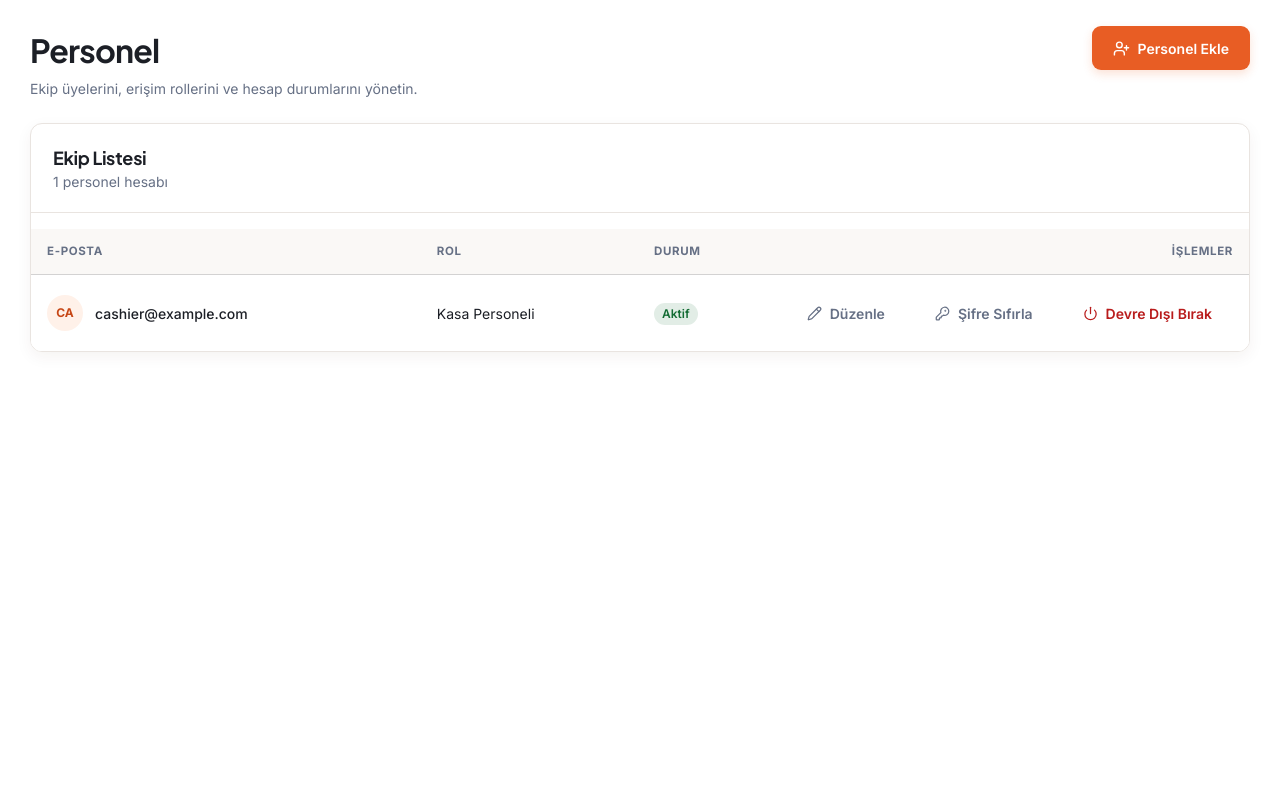
Scenario: StaffPage - Düzenle › e-posta zaten kullanımda hatasında (409) diyalog açık kalır ve hata mesajı gösterilir
Expected: the text "cashier@example.com" is shown, 95,303 -> 248,324
Click the button "Düzenle" at (846, 313), box 786,291 -> 906,335
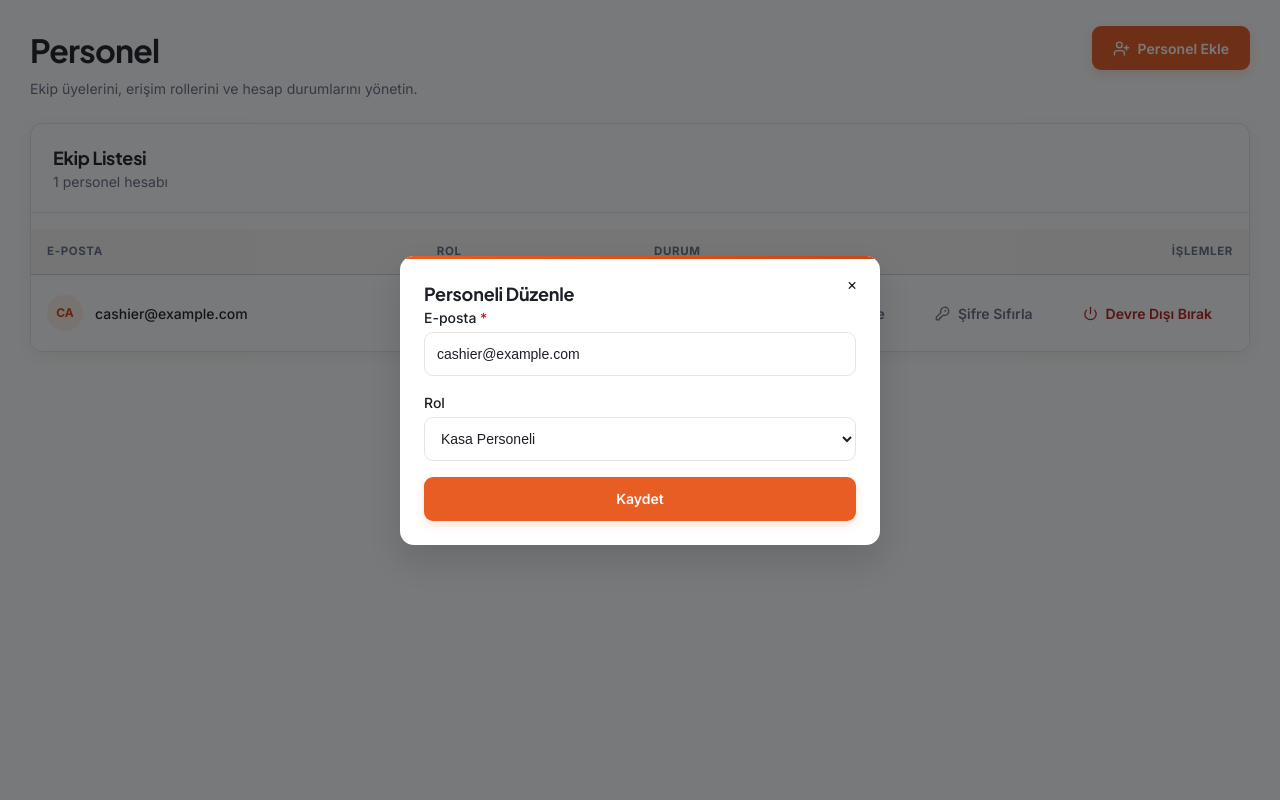
Expected: the heading "Personeli Düzenle" is shown, 424,282 -> 574,304
Replace the text in the field labelled "E-posta *" with "taken@example.com" at (640, 354), box 424,332 -> 856,376
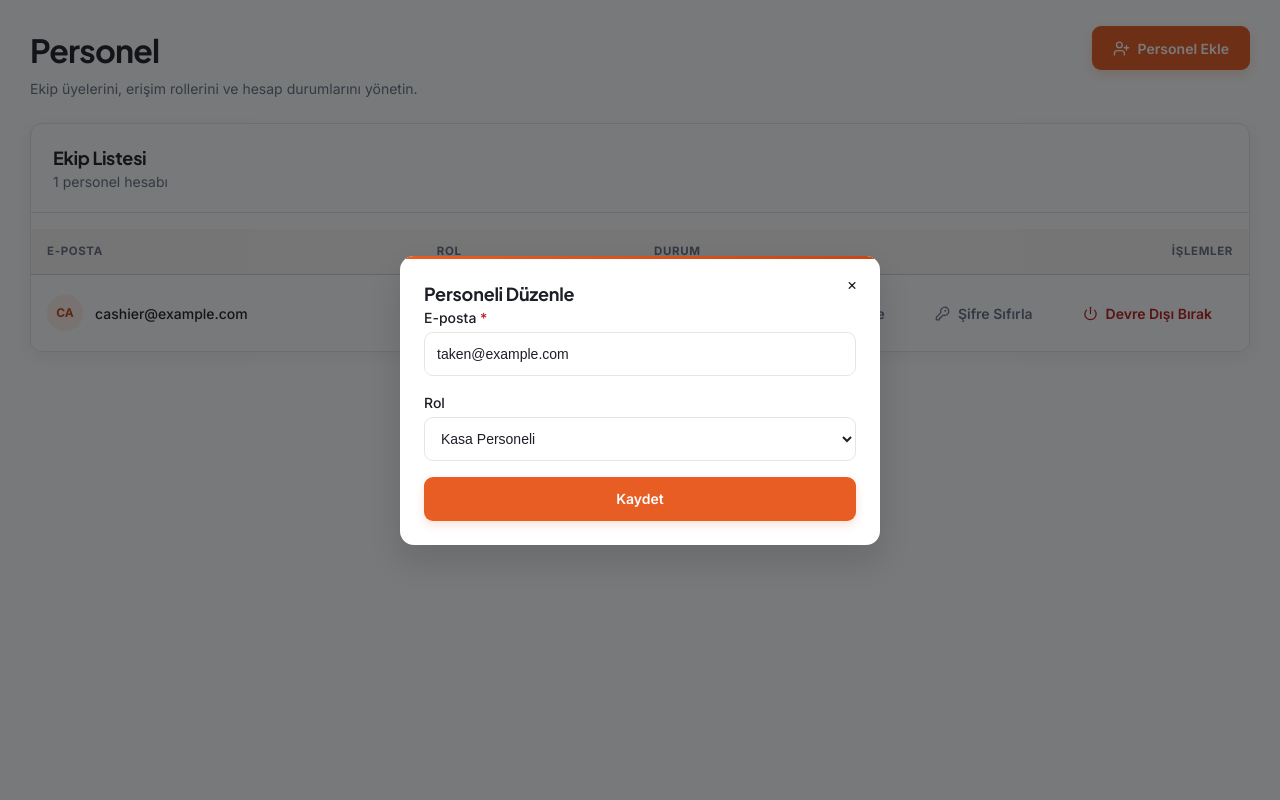
Click the button "Kaydet" at (640, 498), box 424,476 -> 856,520
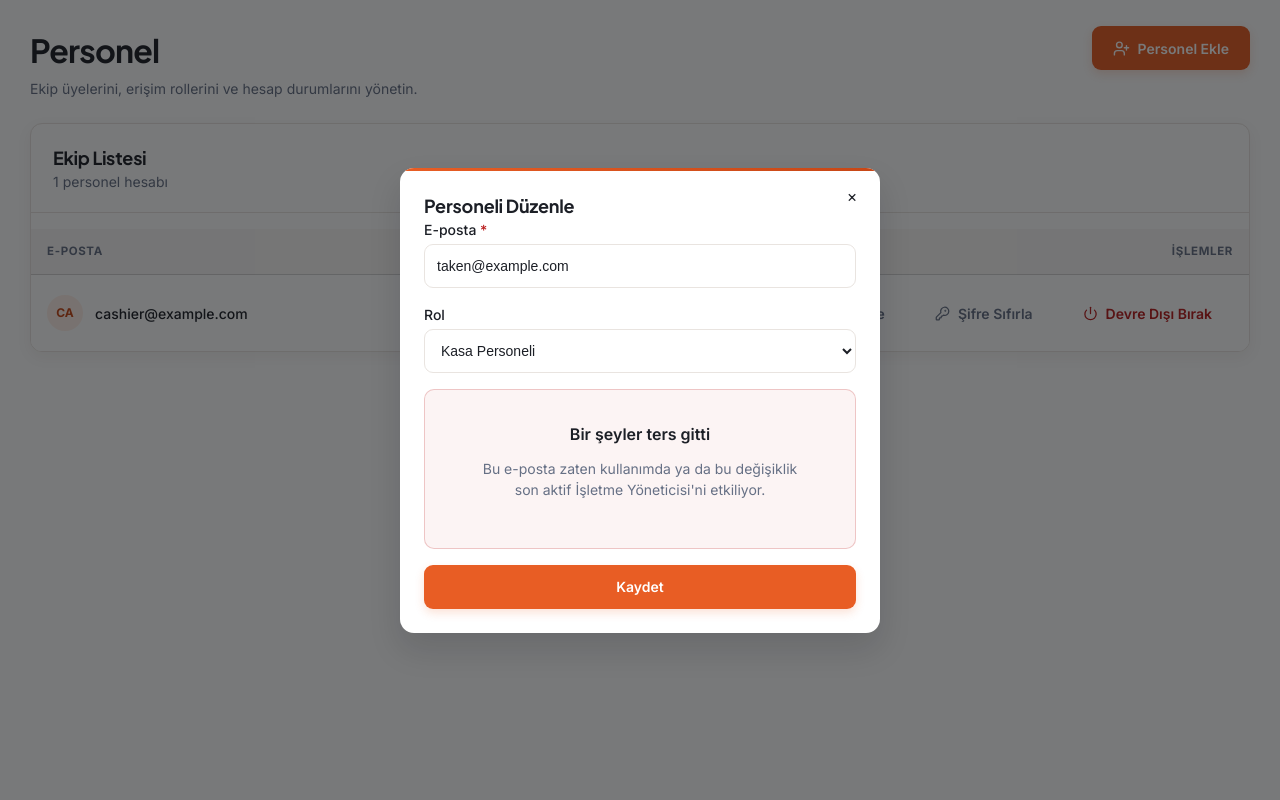
Expected: the heading "Personeli Düzenle" is shown, 424,194 -> 574,216
Expected: the text "zaten kullanımda" is shown, 483,460 -> 797,498
